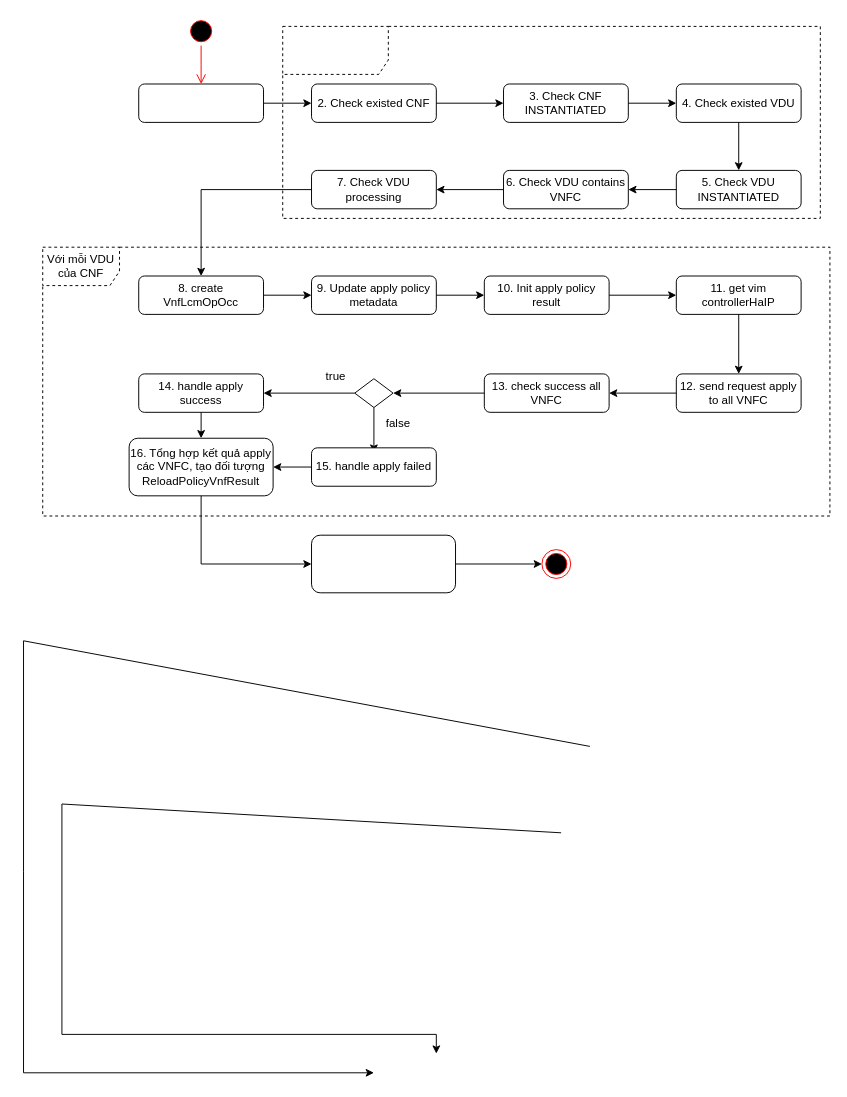
Image size: 847x1097. Some labels were removed from this diagram. Here are the shapes that lost their labels. From the top down, the centre of each, then its label:
At [201,102]: "1. Validate request".
At [551,121]: "Kiểm tra từng VDU, CNF trong request".
At [383,563]: "17. Tổng hợp kết quả apply các CNF, tạo đối tượng ApplyPolicyMultiResponse".
